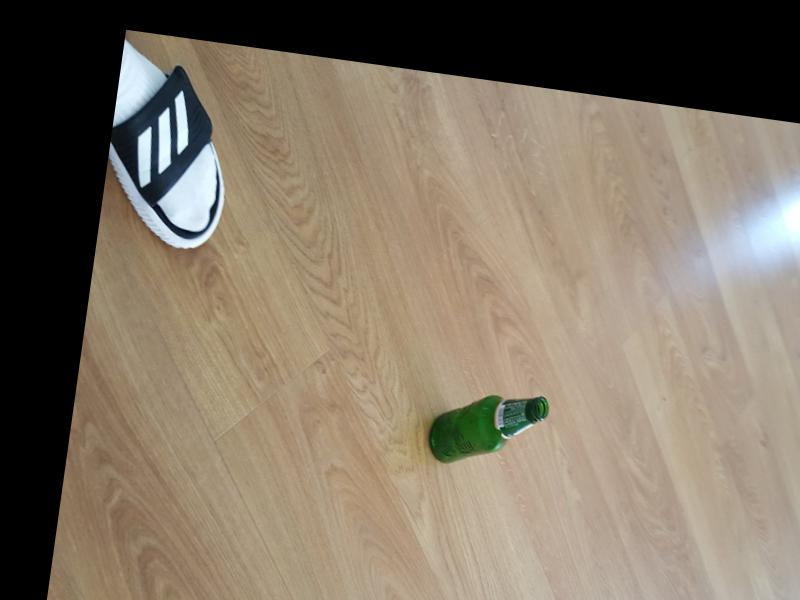Beer: (426, 382, 547, 472)
